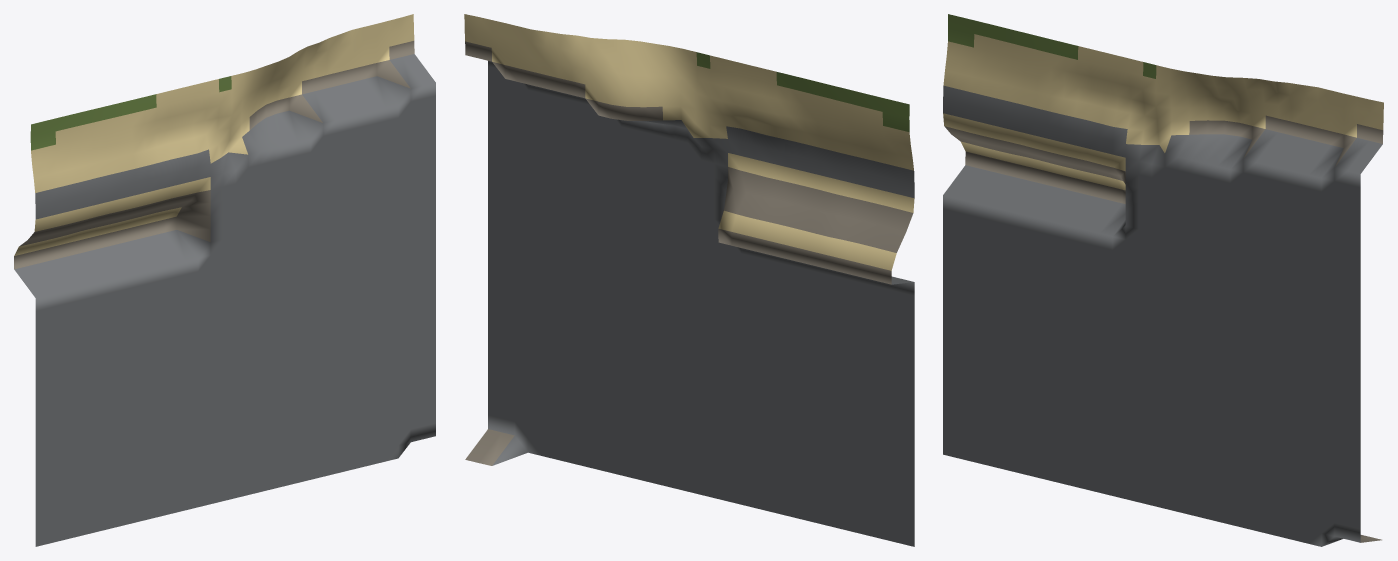
Rendered from island_terrain_15_04.obj.
3 views of the same model, side by side, from view 1: azimuth 30°, elevation 25°; view 2: azimuth 150°, elevation 25°; view 3: azimuth 330°, elevation 25° (orthographic). The views are drawn at different scales.
Parts seen in each view (by area): view 1: island_terrain_15_04; view 2: island_terrain_15_04; view 3: island_terrain_15_04.
Part boxes in pixels (<box>): island_terrain_15_04: <box>14,14,435,546</box>; island_terrain_15_04: <box>464,14,914,546</box>; island_terrain_15_04: <box>943,14,1383,546</box>.
Size of the model in its own units: 256 by 256 by 24.63.
